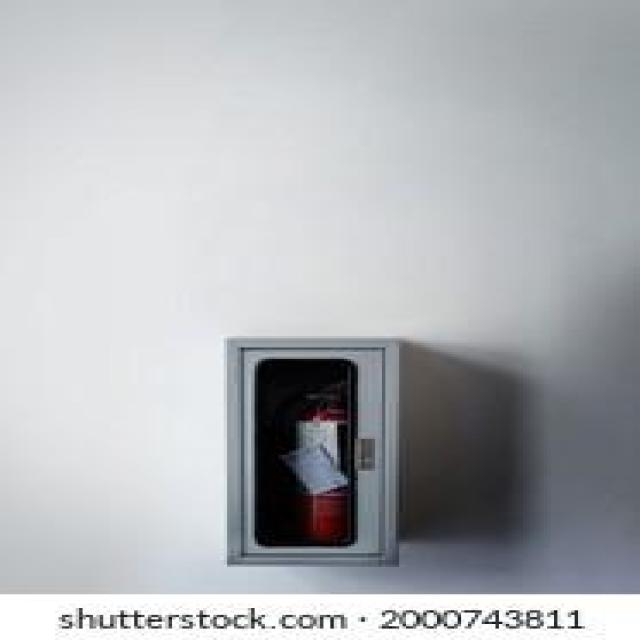fire_extinguisher: (267, 362, 370, 552)
